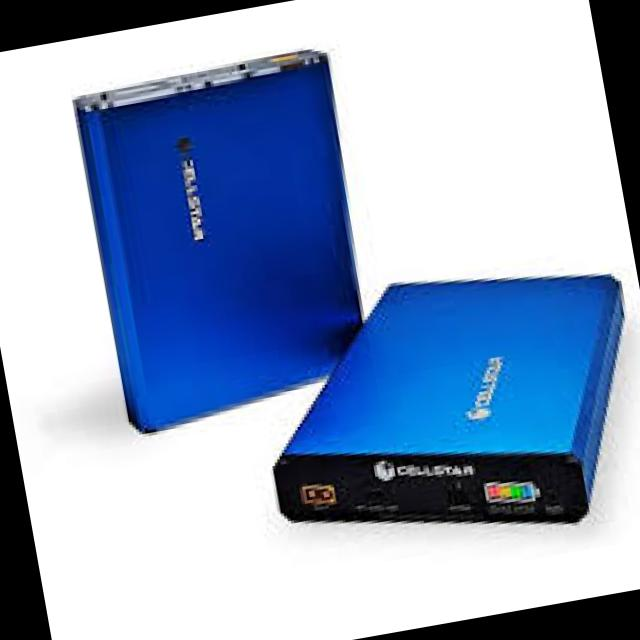power_bank: (241, 238, 640, 587), (72, 43, 388, 440)
